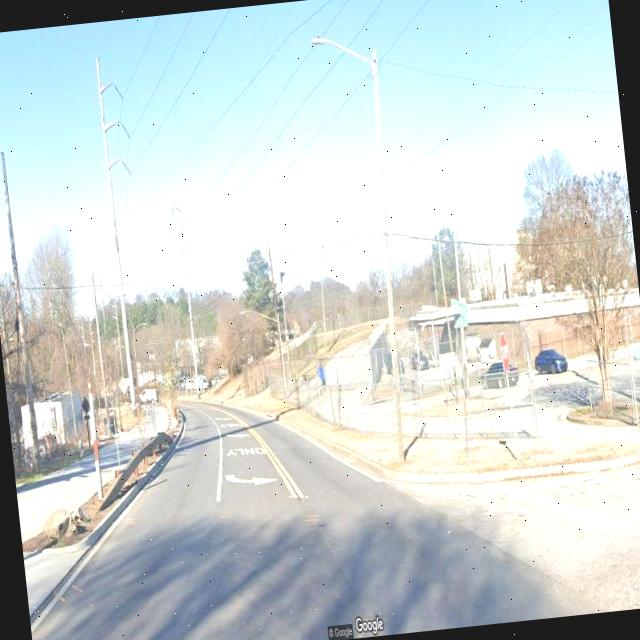seating: (102, 414, 115, 434)
trash_can: (109, 407, 118, 433)
